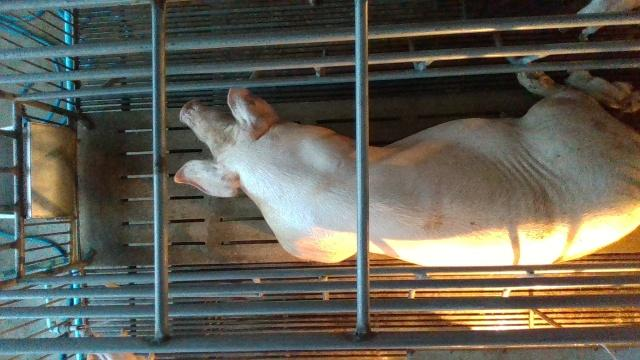sow-sit: (173, 70, 640, 266)
